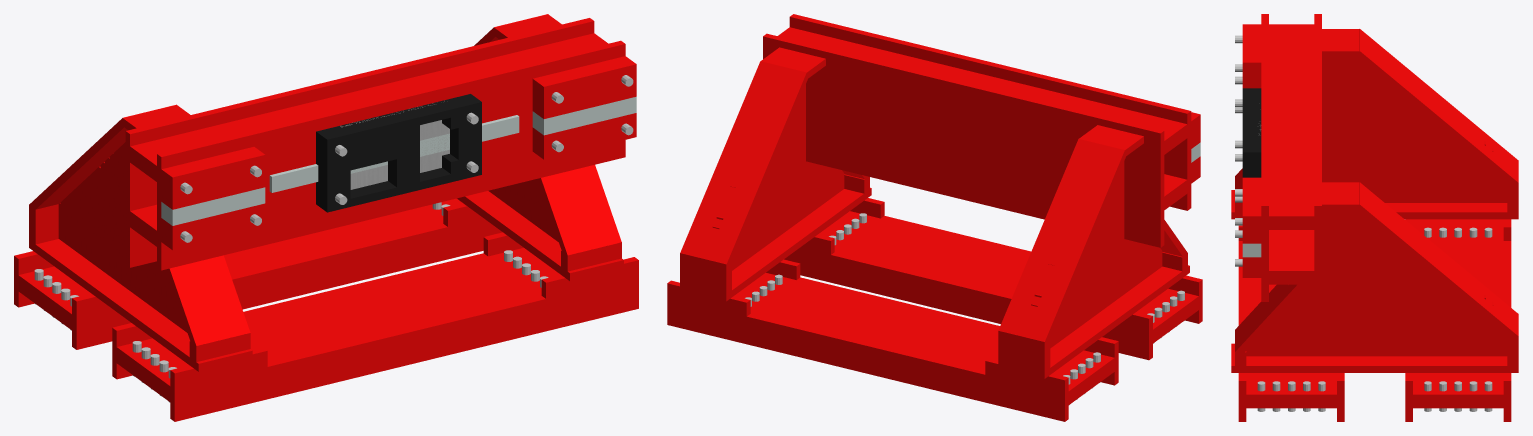
The model's file is british_rail_buffer.obj.
3 renders of one model, left to right at view 1: azimuth 30°, elevation 25°; view 2: azimuth 150°, elevation 25°; view 3: azimuth 270°, elevation 25°, orthographic. The views are drawn at different scales.
Parts seen in each view (by area): view 1: cube, cylinder; view 2: cube, cylinder; view 3: cube, cylinder.
Part boxes in pixels (<box>): cube: <box>14,14,638,421</box>; cylinder: <box>34,75,633,402</box>; cube: <box>667,14,1202,421</box>; cylinder: <box>745,213,1184,405</box>; cube: <box>1231,14,1518,421</box>; cylinder: <box>1235,35,1492,411</box>.
Size of the model in its own units: 1.88 by 0.9844 by 1.19.
Materials: 5 (4 with a texture image).
